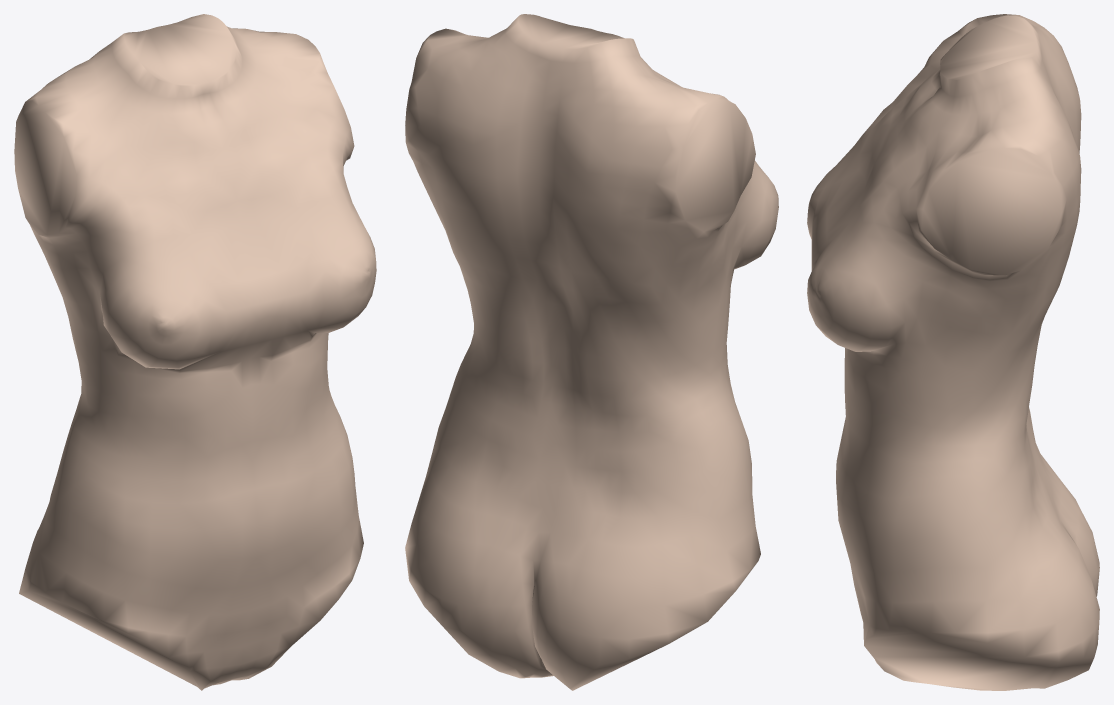
File: base_body_3.dae
3 renders of one model, left to right at view 1: azimuth 30°, elevation 25°; view 2: azimuth 150°, elevation 25°; view 3: azimuth 270°, elevation 25°, orthographic. The views are drawn at different scales.
Visible parts, largest first — view 1: v1-base; view 2: v1-base; view 3: v1-base.
Part boxes in pixels (box(x1,y1,x2,y2)): v1-base: box(14, 14, 376, 690); v1-base: box(405, 14, 778, 690); v1-base: box(807, 14, 1099, 690).
Size of the model in its own units: 0.323 by 0.2585 by 0.6317.
